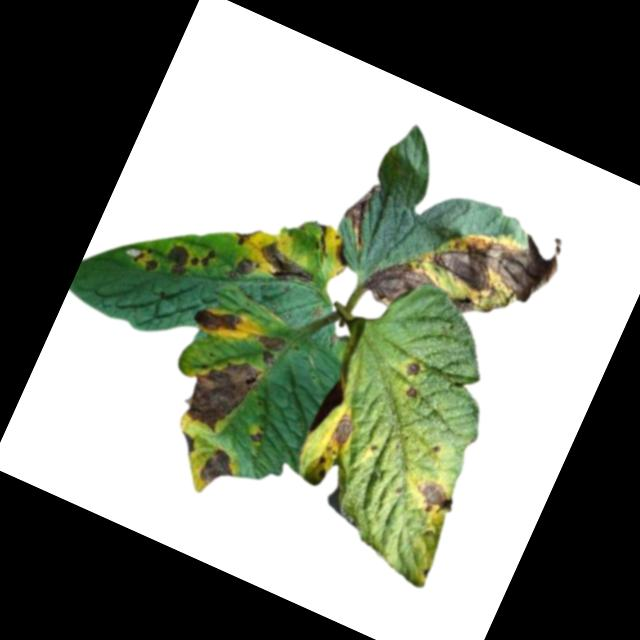Early_blight: (420, 193, 570, 325), (177, 344, 266, 441), (358, 252, 440, 323), (250, 236, 321, 297), (332, 175, 385, 249), (189, 296, 245, 342), (408, 472, 460, 521), (195, 442, 241, 491), (244, 324, 288, 369), (444, 289, 491, 324), (325, 407, 359, 452), (223, 249, 261, 285), (159, 240, 195, 277), (131, 243, 163, 274), (228, 221, 260, 251), (188, 241, 218, 272), (173, 428, 201, 458), (330, 240, 355, 266), (400, 356, 423, 380), (248, 420, 268, 444), (402, 381, 420, 400)
